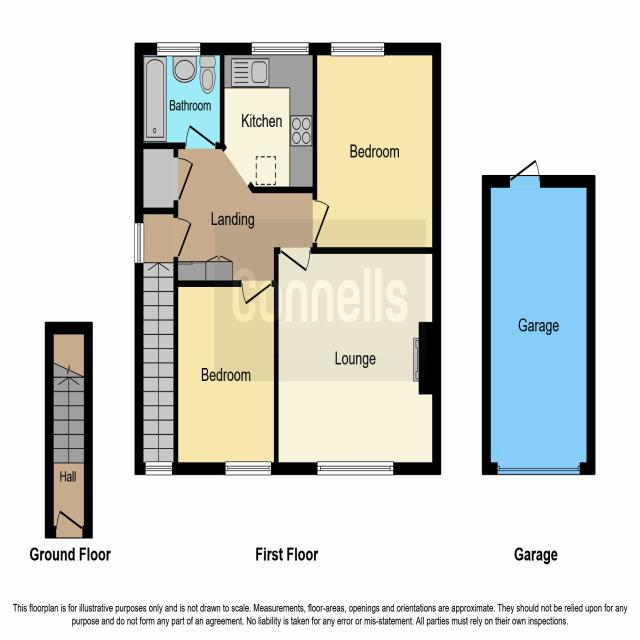DOOR: (312, 198, 332, 244), (173, 216, 193, 258), (279, 247, 311, 273), (240, 280, 272, 306), (184, 124, 216, 149)
ROOM: (274, 247, 442, 476), (312, 42, 442, 254), (173, 280, 279, 475), (220, 41, 318, 194)
WINDOW: (317, 460, 394, 476), (251, 41, 310, 56), (330, 42, 385, 57), (225, 461, 272, 476), (156, 42, 201, 57), (134, 222, 145, 264), (145, 461, 173, 476)
